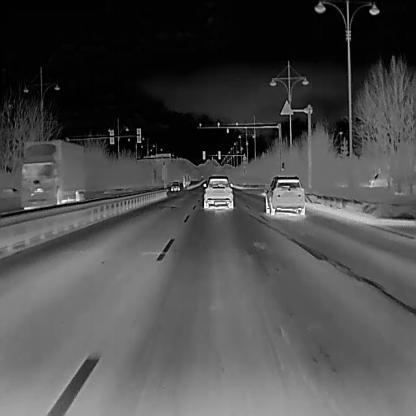car: (19, 139, 86, 210), (265, 175, 306, 215), (203, 175, 234, 211), (170, 180, 179, 190)
